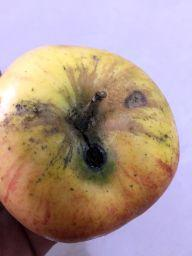apple: (0, 23, 189, 255)
